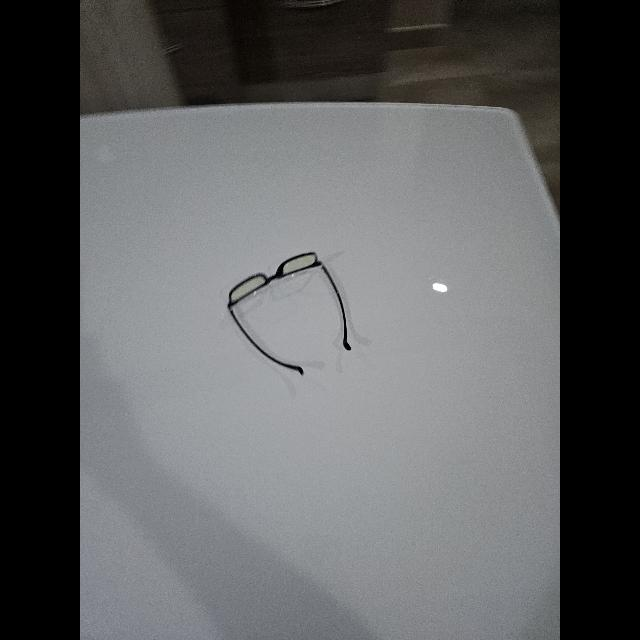glasses: (228, 252, 350, 376)
